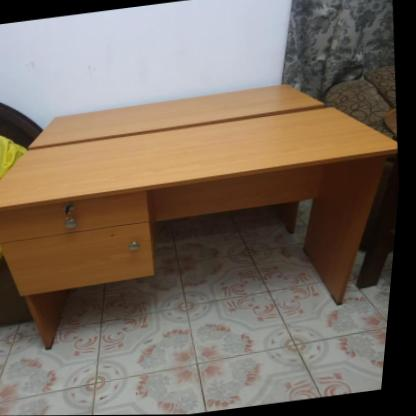Ceramic floor: (0, 203, 398, 416)
Table: (0, 59, 412, 380)
